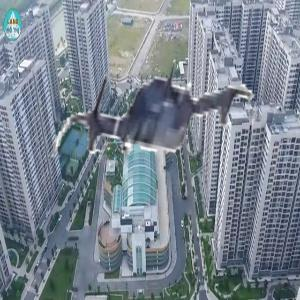drone: (50, 20, 261, 231)
